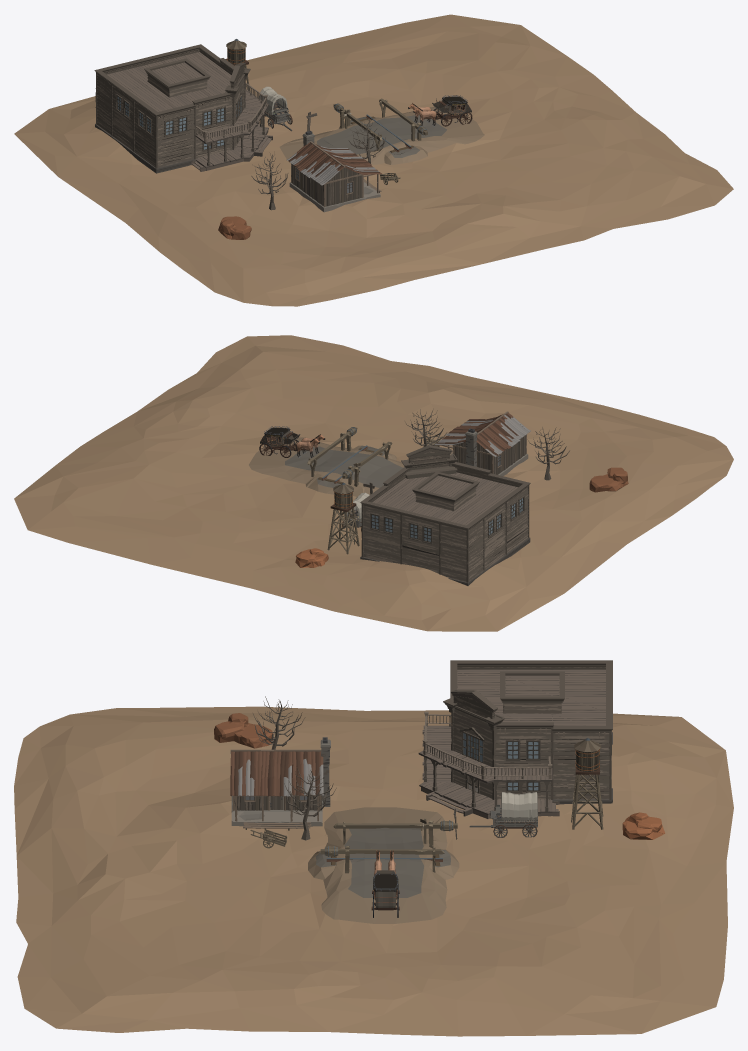
3 renders of one model, top to bottom at view 1: azimuth 30°, elevation 25°; view 2: azimuth 150°, elevation 25°; view 3: azimuth 270°, elevation 25°, orthographic. The views are drawn at different scales.
Parts seen in each view (by area): view 1: SM_Env_Sand_Ground_007, SM_Bld_Saloon_01, groun_soil_007, SM_Bld_Cabin_01, SM_Veh_Stagecoach_01, SM_Env_RockFlat_006, SM_Bld_Saloon_Glass, groun_soil_00, SM_Env_TreeDead_005, SM_Prop_Water_Tower_003, SM_Env_TreeDead_004; view 2: SM_Env_Sand_Ground_007, SM_Bld_Saloon_01, groun_soil_007, SM_Bld_Cabin_01, SM_Prop_Water_Tower_003, SM_Env_RockFlat_006, SM_Veh_Stagecoach_01, SM_Env_TreeDead_005, SM_Env_RockFlat_007, SM_Bld_Saloon_Glass, SM_Env_TreeDead_004; view 3: SM_Env_Sand_Ground_007, SM_Bld_Saloon_01, groun_soil_007, SM_Bld_Cabin_01, SM_Prop_Water_Tower_003, SM_Env_RockFlat_006, SM_Veh_Wagon_Travel_Cover_01, SM_Veh_Stagecoach_01, SM_Env_TreeDead_004, SM_Env_RockFlat_007, SM_Env_TreeDead_005, bariier_western_b003 (+1 smaller).
Boxes of the visible parts, bbox=[...] form: SM_Env_Sand_Ground_007: bbox=[14, 14, 733, 306]; SM_Bld_Saloon_01: bbox=[94, 44, 272, 173]; groun_soil_007: bbox=[279, 107, 484, 164]; SM_Bld_Cabin_01: bbox=[286, 130, 381, 212]; SM_Veh_Stagecoach_01: bbox=[432, 95, 471, 122]; SM_Env_RockFlat_006: bbox=[218, 216, 251, 239]; SM_Bld_Saloon_Glass: bbox=[117, 97, 241, 149]; groun_soil_00: bbox=[384, 145, 427, 164]; SM_Env_TreeDead_005: bbox=[251, 153, 288, 210]; SM_Prop_Water_Tower_003: bbox=[225, 39, 250, 91]; SM_Env_TreeDead_004: bbox=[348, 118, 385, 163]; SM_Env_Sand_Ground_007: bbox=[14, 335, 733, 631]; SM_Bld_Saloon_01: bbox=[360, 445, 530, 585]; groun_soil_007: bbox=[249, 437, 404, 496]; SM_Bld_Cabin_01: bbox=[434, 411, 530, 475]; SM_Prop_Water_Tower_003: bbox=[327, 482, 359, 554]; SM_Env_RockFlat_006: bbox=[589, 467, 628, 492]; SM_Veh_Stagecoach_01: bbox=[260, 426, 300, 454]; SM_Env_TreeDead_005: bbox=[527, 427, 569, 480]; SM_Env_RockFlat_007: bbox=[295, 548, 328, 567]; SM_Bld_Saloon_Glass: bbox=[372, 498, 522, 541]; SM_Env_TreeDead_004: bbox=[405, 409, 447, 446]; SM_Env_Sand_Ground_007: bbox=[14, 706, 733, 1036]; SM_Bld_Saloon_01: bbox=[418, 660, 612, 818]; groun_soil_007: bbox=[321, 807, 447, 923]; SM_Bld_Cabin_01: bbox=[230, 737, 330, 830]; SM_Prop_Water_Tower_003: bbox=[571, 738, 603, 829]; SM_Env_RockFlat_006: bbox=[214, 713, 273, 748]; SM_Veh_Wagon_Travel_Cover_01: bbox=[501, 792, 537, 823]; SM_Veh_Stagecoach_01: bbox=[372, 869, 398, 910]; SM_Env_TreeDead_004: bbox=[284, 768, 336, 840]; SM_Env_RockFlat_007: bbox=[622, 812, 665, 839]; SM_Env_TreeDead_005: bbox=[253, 696, 305, 749]; bariier_western_b003: bbox=[333, 820, 457, 831].
Size of the model in its own units: 6664 by 1127 by 6178.
5 materials, 5 textured.
